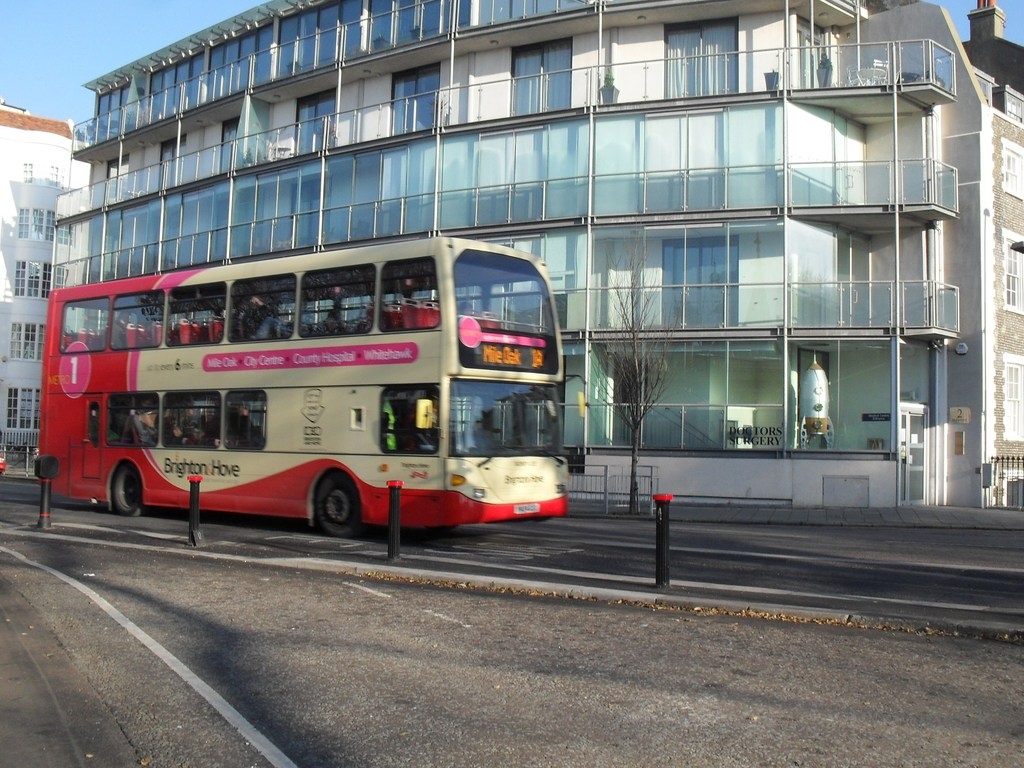Bus: (36, 231, 569, 540)
